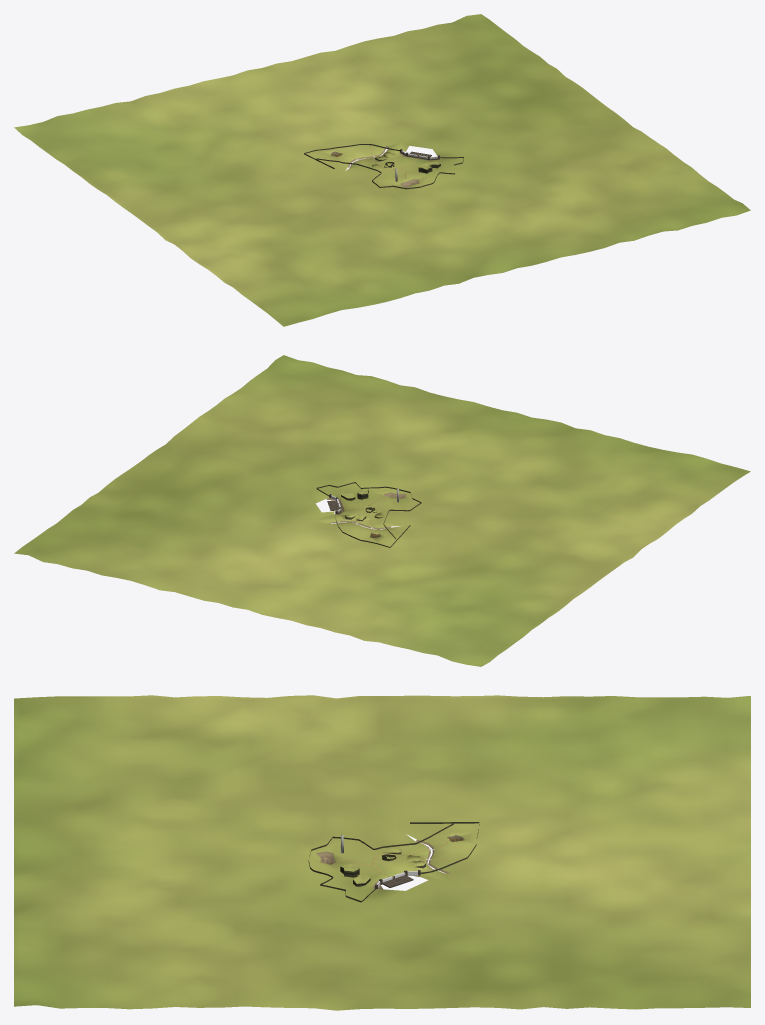
Rendered from field_main 3.fbx.
3 renders of one model, top to bottom at view 1: azimuth 30°, elevation 25°; view 2: azimuth 150°, elevation 25°; view 3: azimuth 270°, elevation 25°, orthographic. The views are drawn at different scales.
Parts seen in each view (by area): view 1: terrain, fieldWall; view 2: terrain; view 3: terrain, fieldWall.
Boxes of the visible parts, bbox=[...] form: terrain: bbox=[14, 14, 750, 326]; fieldWall: bbox=[304, 144, 463, 189]; terrain: bbox=[14, 355, 750, 666]; terrain: bbox=[14, 695, 750, 1010]; fieldWall: bbox=[308, 822, 479, 902].
Size of the model in its own units: 345699 by 10489 by 345699.
